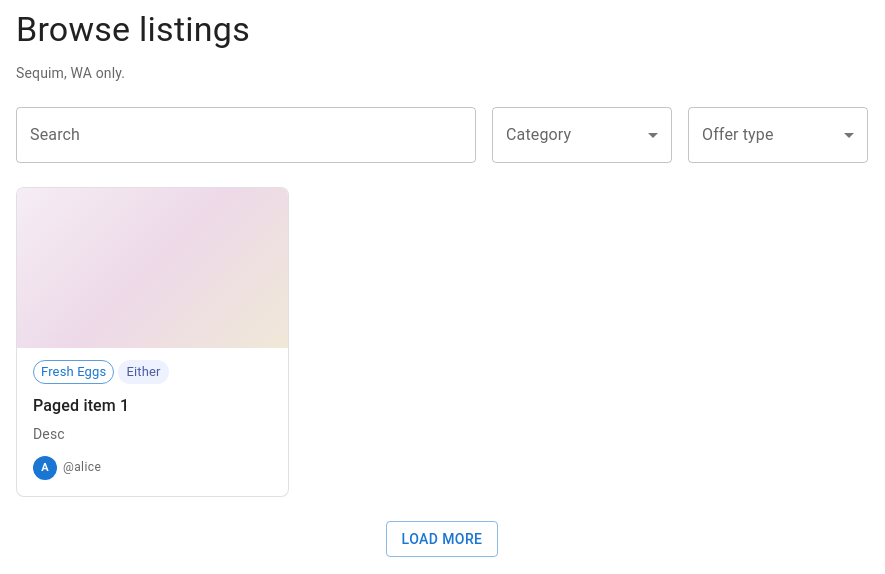
BrowseListingsPage › loads more on click
Expected: the heading "Paged item 1" is shown, [33,396,129,415]
Click the button "Load more". click: (442, 539)
box: [386,521,498,557]
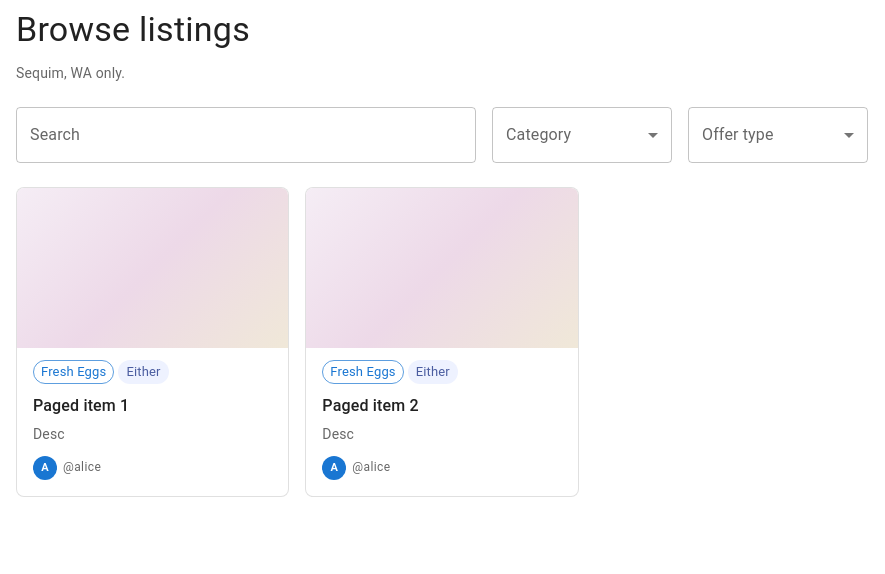
Expected: the heading "Paged item 1" is shown, [33,396,129,415]
Expected: the heading "Paged item 2" is shown, [322,396,419,415]
